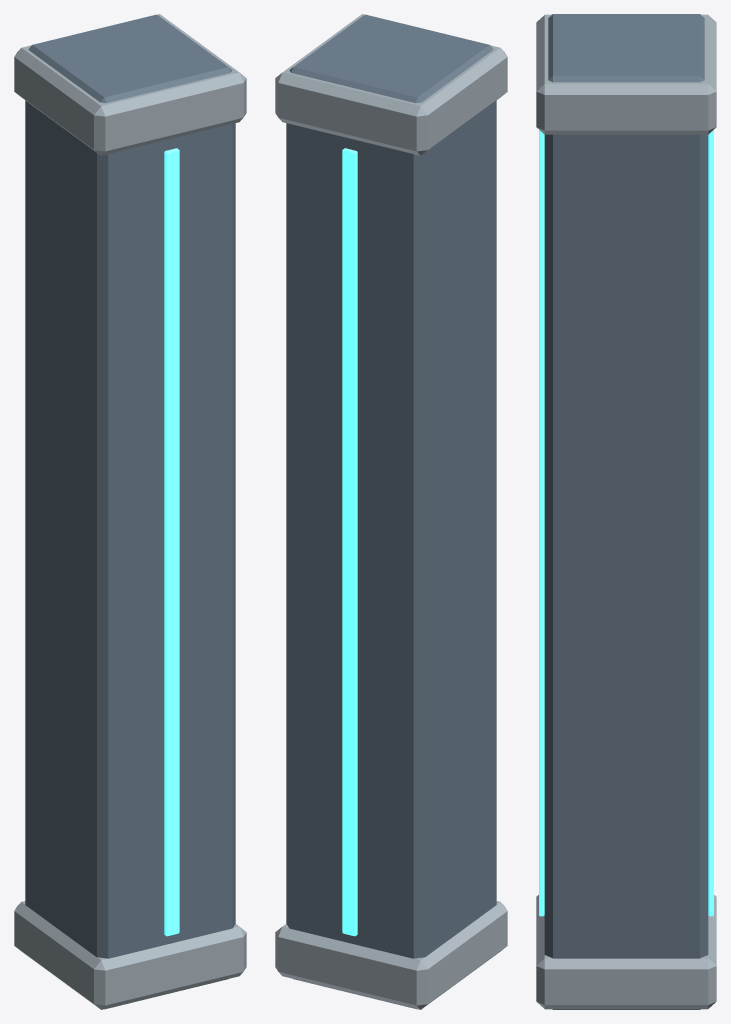
File: architecture_10.glb
The picture shows the model from 3 angles, left to right: view 1: azimuth 30°, elevation 25°; view 2: azimuth 150°, elevation 25°; view 3: azimuth 270°, elevation 25°; orthographic projection. The views are drawn at different scales.
Visible parts, largest first — view 1: Column, ColumnCap (×2), ColumnLight; view 2: Column, ColumnCap (×2), ColumnLight; view 3: Column, ColumnCap (×2), ColumnLight (×2).
Part boxes in pixels (x1=…): Column: x1=25, y1=14, x2=235, y2=1009; ColumnCap (×2): x1=14, y1=14, x2=246, y2=1009; ColumnLight: x1=164, y1=148, x2=179, y2=936; Column: x1=286, y1=14, x2=496, y2=1009; ColumnCap (×2): x1=275, y1=14, x2=507, y2=1009; ColumnLight: x1=342, y1=148, x2=357, y2=936; Column: x1=544, y1=14, x2=708, y2=1009; ColumnCap (×2): x1=536, y1=14, x2=716, y2=1009; ColumnLight (×2): x1=539, y1=130, x2=713, y2=916.
Bounding box in the file's own units: 0.385 × 2.2 × 0.385.
